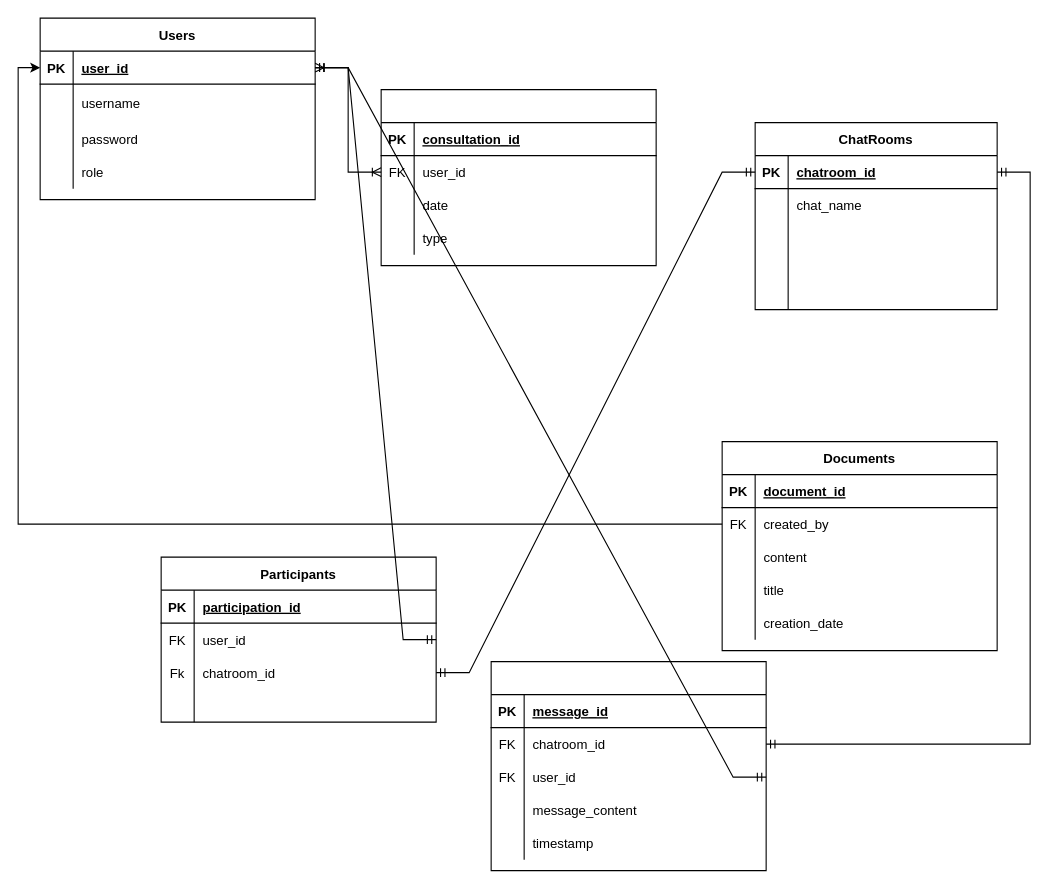
This 1048x889 diagram has some shape labels left out. Each missing label, with the box of its shape:
Consultations: (380, 89, 656, 266)
Messages: (490, 661, 766, 871)
